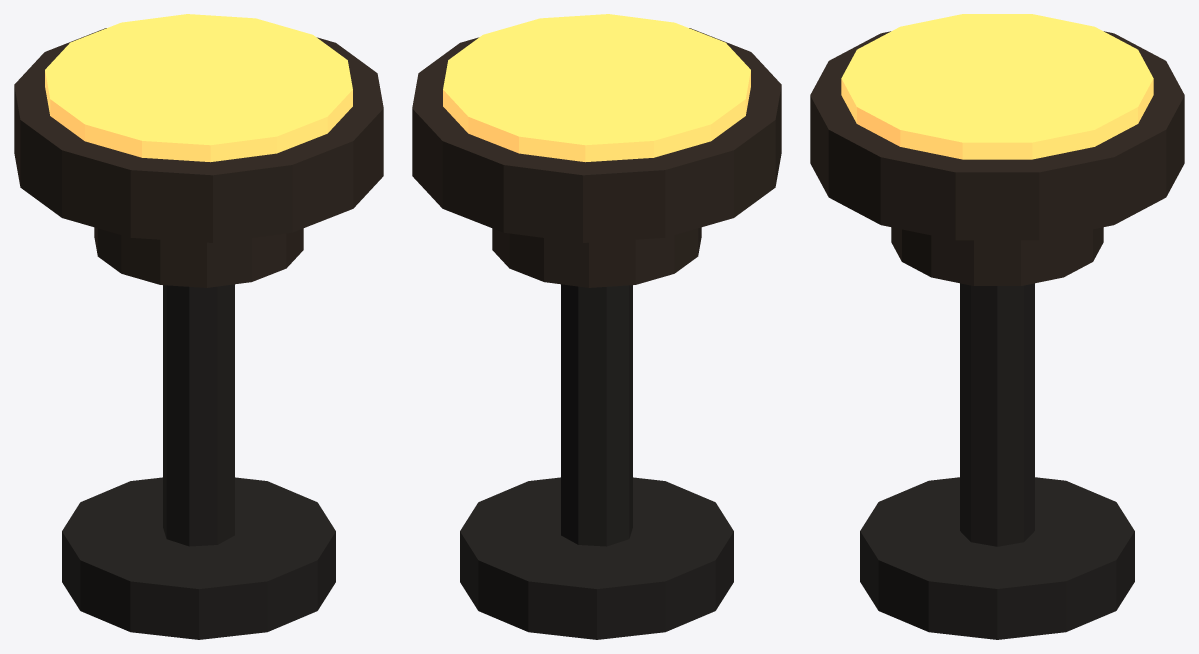
File: prop_brazier.glb
3 views of the same model, side by side, from view 1: azimuth 30°, elevation 25°; view 2: azimuth 150°, elevation 25°; view 3: azimuth 270°, elevation 25° (orthographic).
Visible parts, largest first — view 1: coals, bowl_rim, base, stem, bowl_lower; view 2: coals, bowl_rim, base, stem, bowl_lower; view 3: coals, bowl_rim, base, stem, bowl_lower.
Part boxes in pixels (bbox=[...]): coals: bbox=[45, 14, 352, 162]; bowl_rim: bbox=[14, 28, 383, 242]; base: bbox=[62, 477, 335, 639]; stem: bbox=[163, 284, 234, 546]; bowl_lower: bbox=[94, 227, 303, 287]; coals: bbox=[443, 14, 750, 162]; bowl_rim: bbox=[412, 28, 781, 242]; base: bbox=[460, 477, 733, 639]; stem: bbox=[561, 284, 632, 546]; bowl_lower: bbox=[492, 227, 701, 287]; coals: bbox=[841, 14, 1153, 159]; bowl_rim: bbox=[810, 31, 1184, 240]; base: bbox=[860, 477, 1134, 639]; stem: bbox=[960, 283, 1034, 546]; bowl_lower: bbox=[891, 227, 1103, 285].
Bounding box in the file's own units: 0.585 × 0.89 × 0.6.
